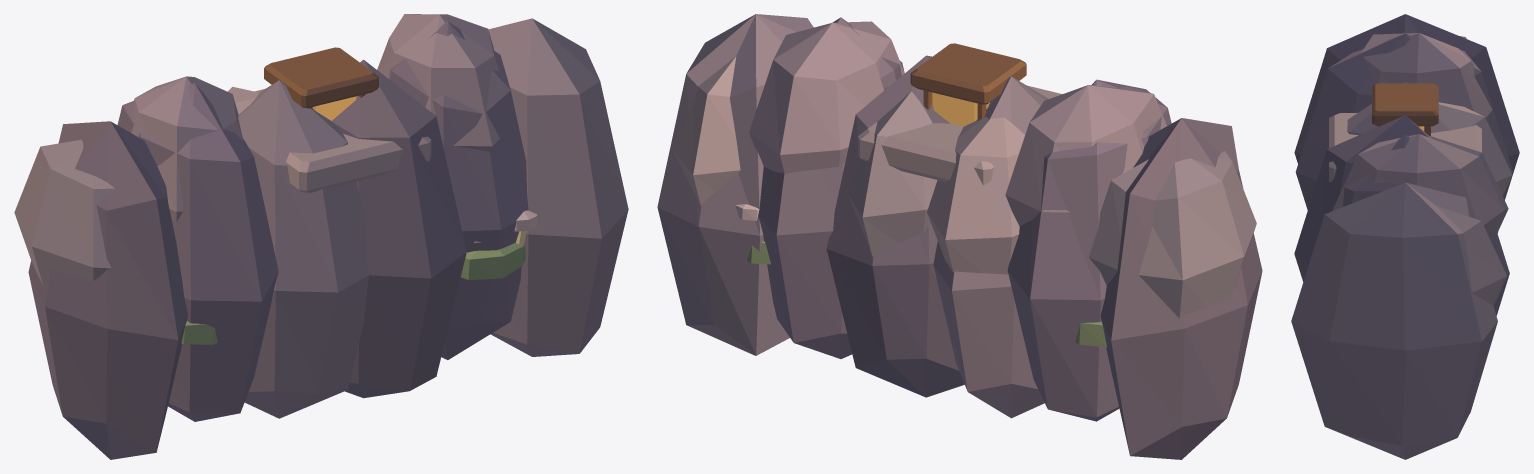
The model's file is dusk_lantern_wall.glb.
3 views of the same model, side by side, from view 1: azimuth 30°, elevation 25°; view 2: azimuth 150°, elevation 25°; view 3: azimuth 270°, elevation 25° (orthographic). The views are drawn at different scales.
Parts seen in each view (by area): view 1: Dämmergänge · Mauervorsprung und Laternenlicht; view 2: Dämmergänge · Mauervorsprung und Laternenlicht; view 3: Dämmergänge · Mauervorsprung und Laternenlicht.
Boxes of the visible parts, x1,y1,x2,y2 form: Dämmergänge · Mauervorsprung und Laternenlicht: [14, 14, 628, 459]; Dämmergänge · Mauervorsprung und Laternenlicht: [657, 14, 1262, 459]; Dämmergänge · Mauervorsprung und Laternenlicht: [1291, 14, 1519, 459].
Size of the model in its own units: 2.48 by 1.5 by 1.06.
